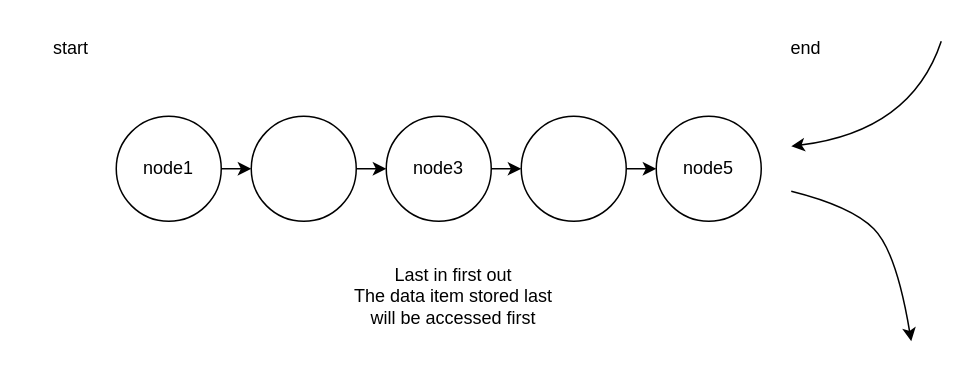
The diagram is 968 pixels wide and 366 high, and some of its shapes have lost their labels. The shapes that lost their labels are listed below. From the top down, each one's centre as x and y in pixels, then its label:
At pixel 303 168: "node2".
At pixel 573 168: "node4".
